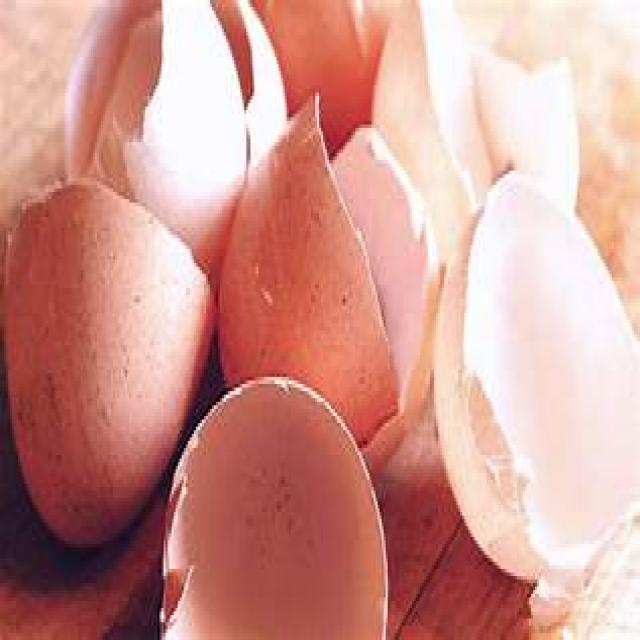Organik: (2, 0, 640, 640)
